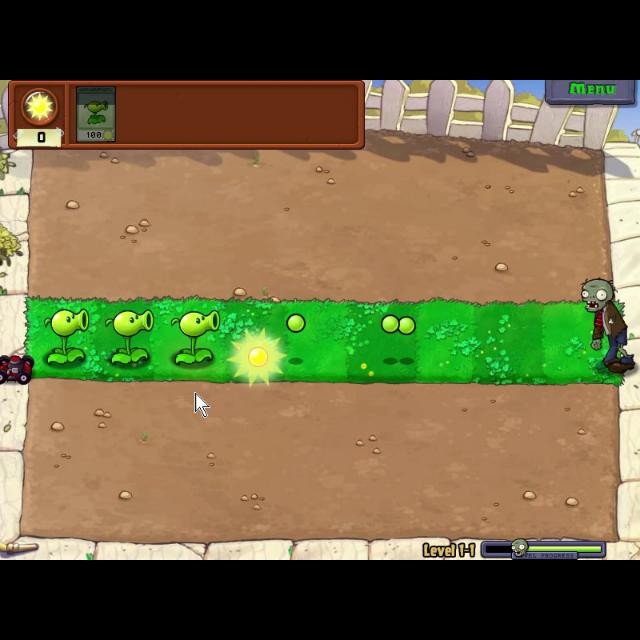Garden: (20, 290, 628, 390)
Menu Button: (544, 80, 636, 106)
Mower: (0, 352, 34, 386)
Peashooter: (74, 82, 118, 144)
Peashooter Seed: (39, 304, 93, 364), (102, 308, 156, 364), (168, 310, 222, 364)
Seed Panel: (7, 80, 367, 150)
Sun: (224, 325, 290, 393)
Zombie: (574, 273, 636, 373)
